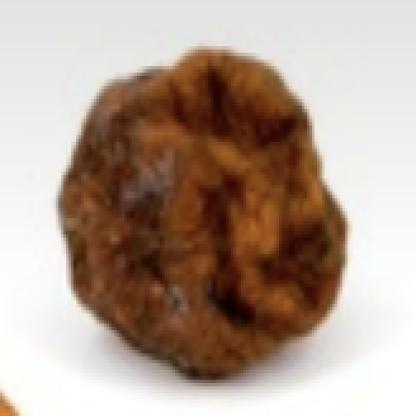rotten: (60, 46, 346, 385)
